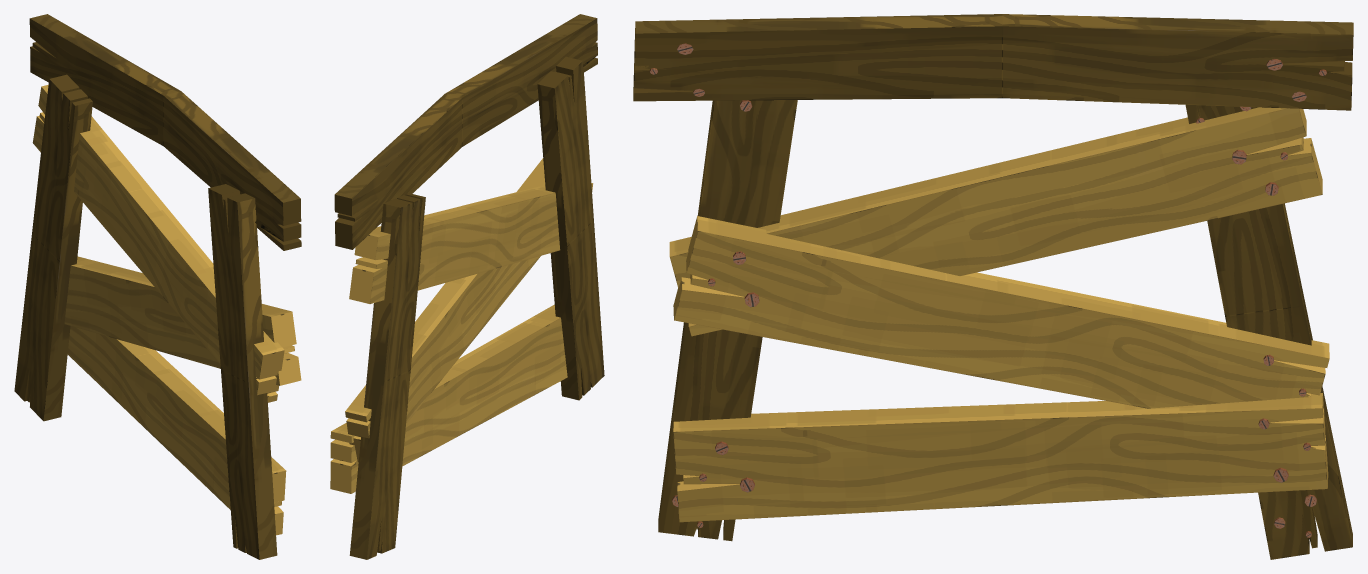
The model's file is gate.fbx.
3 renders of one model, left to right at view 1: azimuth 30°, elevation 25°; view 2: azimuth 150°, elevation 25°; view 3: azimuth 270°, elevation 25°, orthographic. The views are drawn at different scales.
Visible parts, largest first — view 1: Gate; view 2: Gate; view 3: Gate.
Part boxes in pixels (<box>): Gate: <box>14,14,301,559</box>; Gate: <box>330,14,604,559</box>; Gate: <box>633,14,1353,559</box>.
Size of the model in its own units: 90.59 by 679 by 804.
